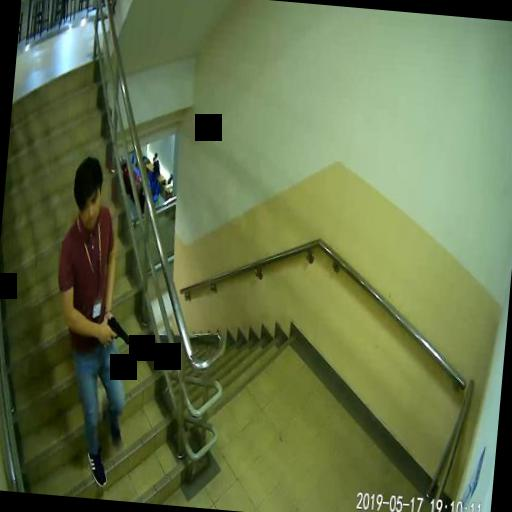Handgun: (104, 314, 131, 344)
